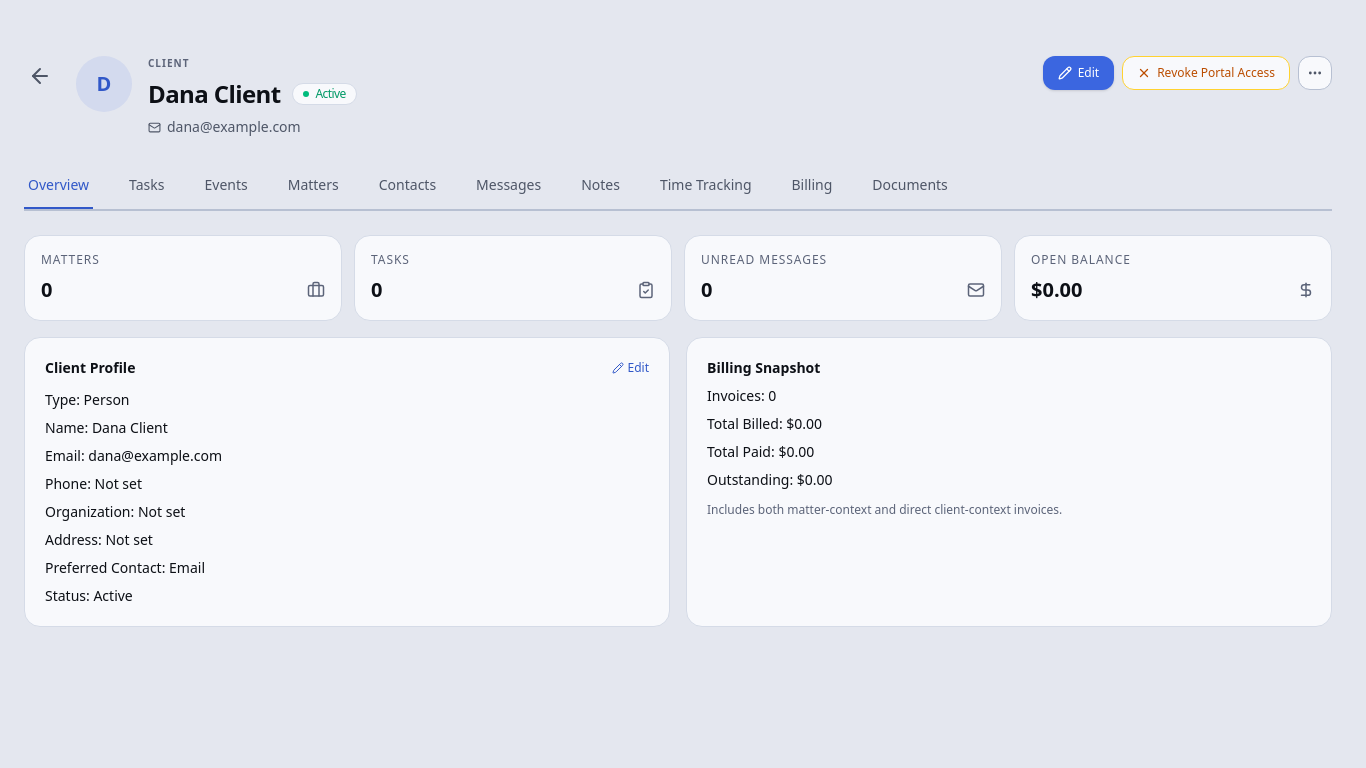
Scenario: portal invitation › revokes portal access after confirmation and re-reads the client
The width and height of the screenshot is (1366, 768).
Expected: the heading "Dana Client Active" is shown, [148, 77, 357, 110]
Click the button "Revoke Portal Access". click: [1206, 73]
box: [1122, 56, 1290, 90]
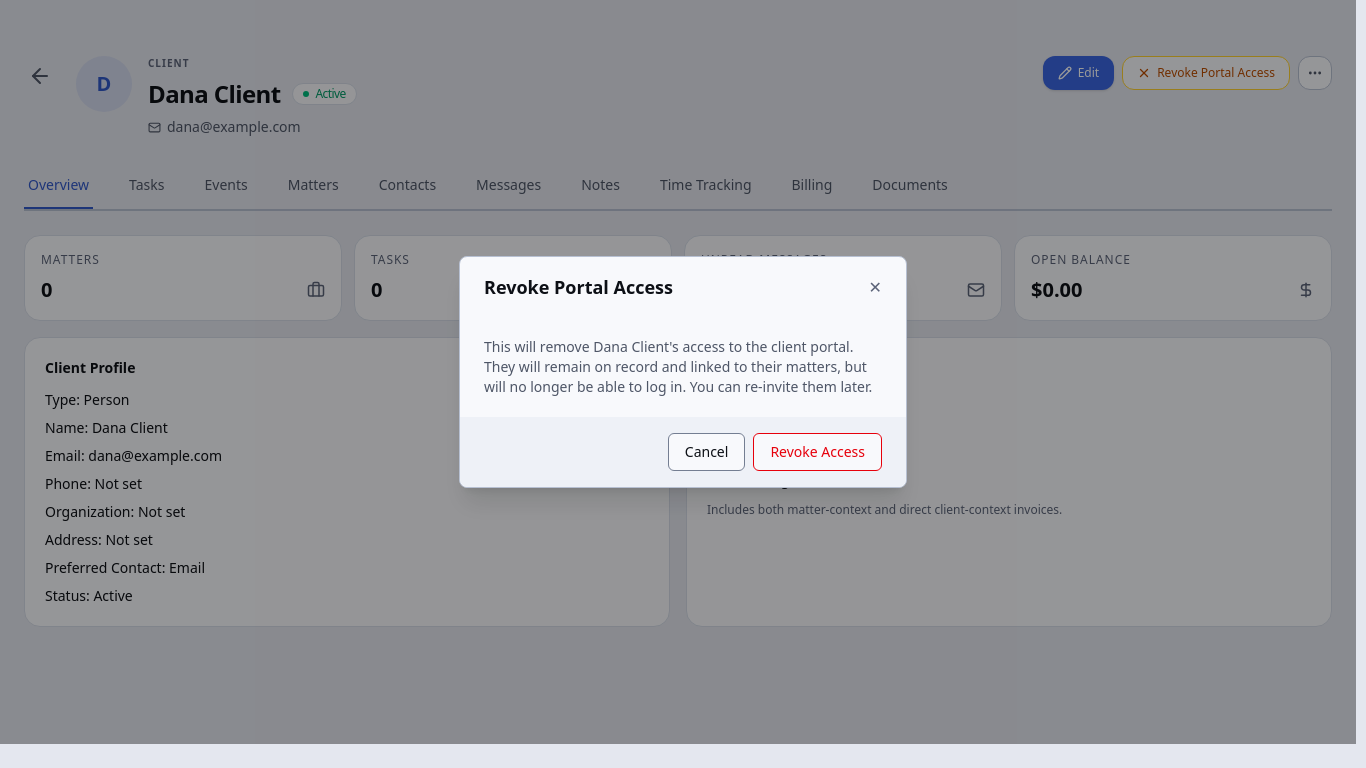
Click the button "Revoke Access". click: [818, 452]
box: [753, 433, 882, 471]
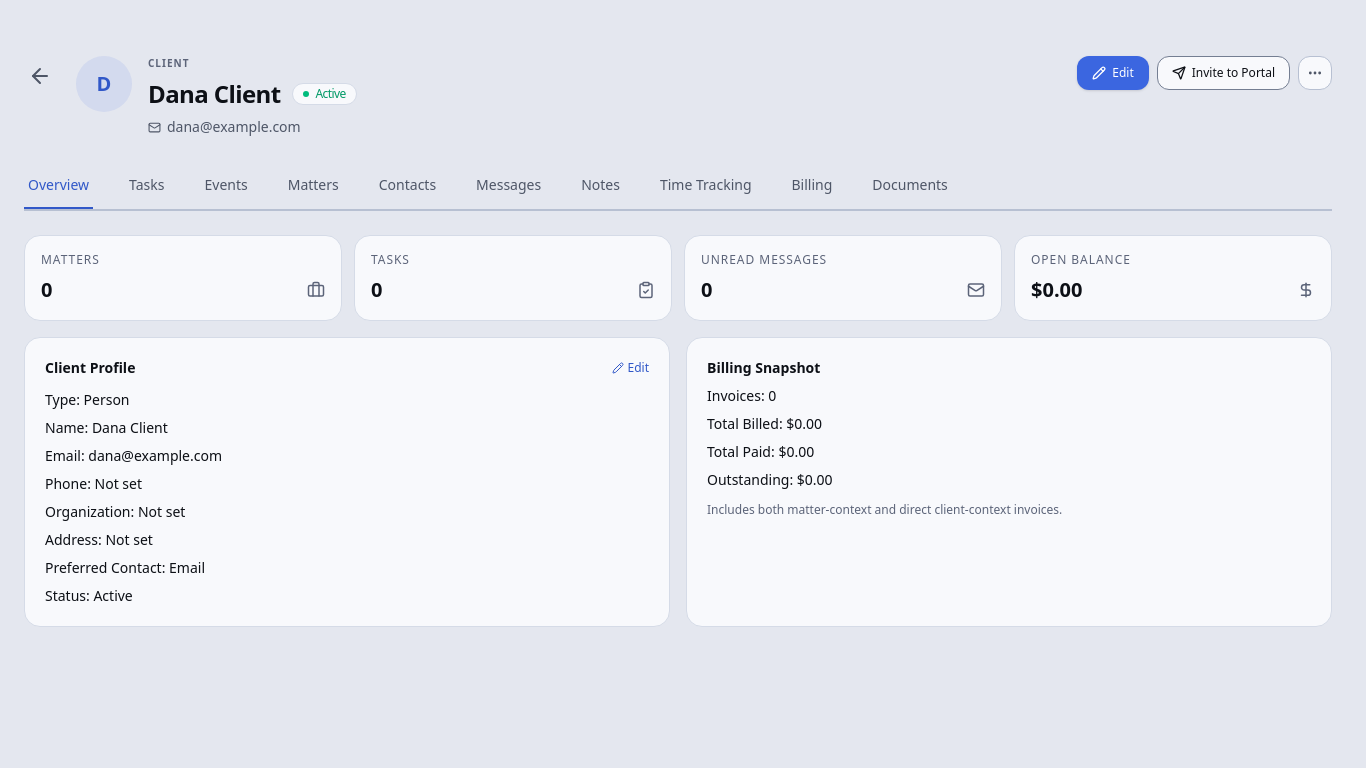
Result: the button "Invite to Portal" is shown at [1157, 56, 1290, 90]
